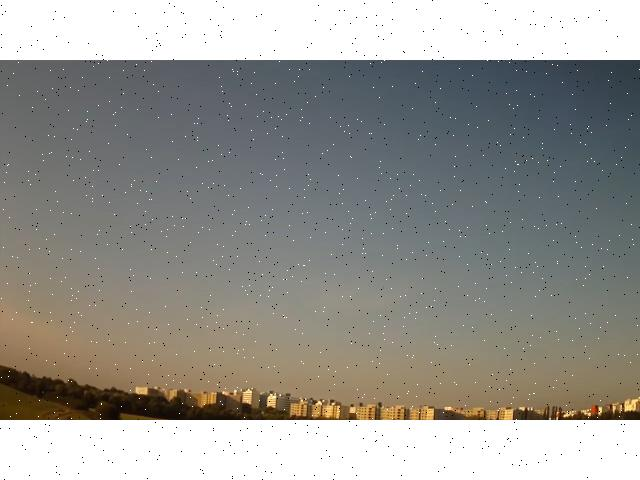Anti-Drone: (376, 281, 396, 293)
